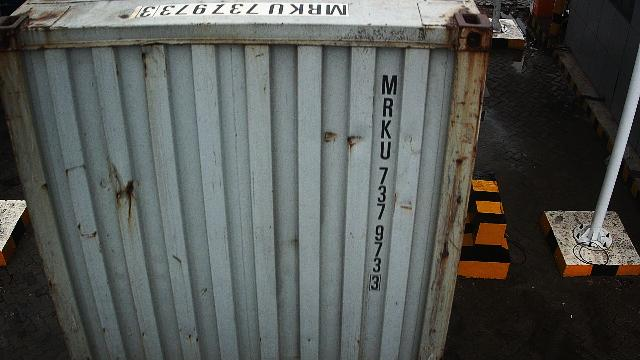3: (369, 274, 381, 292), (378, 185, 387, 202), (373, 257, 381, 273)
7: (378, 167, 388, 185), (376, 204, 386, 221), (373, 241, 383, 257)
9: (374, 225, 384, 241)
K: (381, 119, 392, 139)
M: (382, 74, 398, 96)
R: (382, 98, 393, 118)
U: (381, 140, 392, 160)
